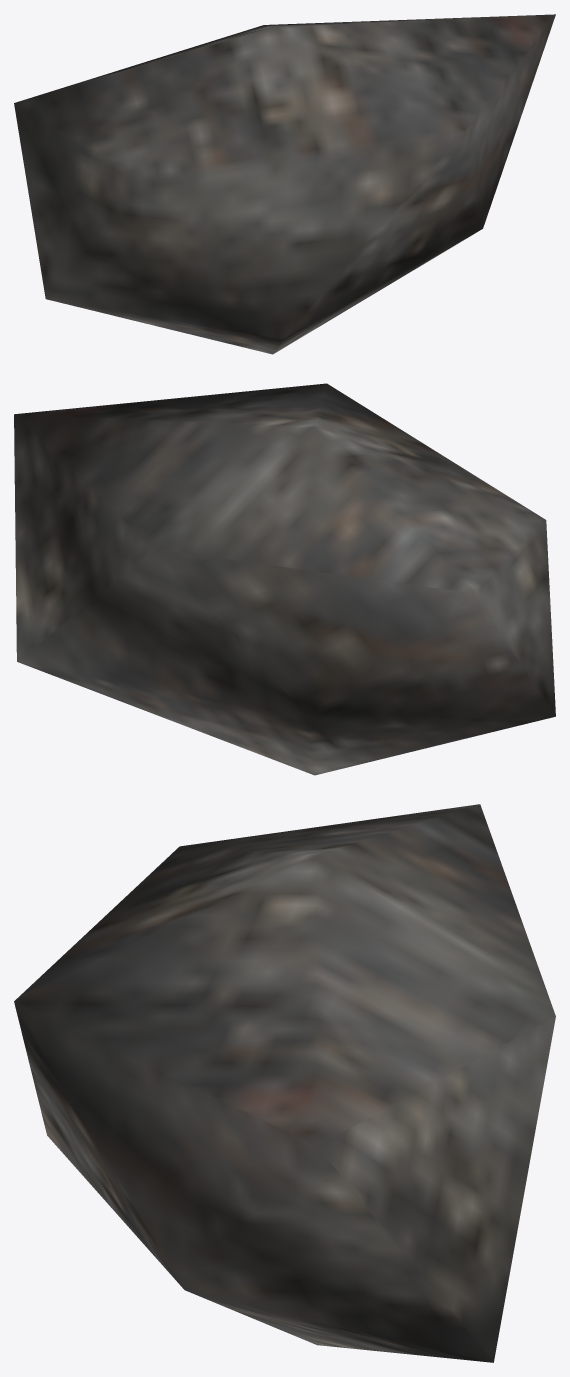
Rendered from SM_HarvestRock_Chip02.fbx.
3 renders of one model, top to bottom at view 1: azimuth 30°, elevation 25°; view 2: azimuth 150°, elevation 25°; view 3: azimuth 270°, elevation 25°, orthographic. The views are drawn at different scales.
Parts seen in each view (by area): view 1: SM_HarvestRock_Chip02; view 2: SM_HarvestRock_Chip02; view 3: SM_HarvestRock_Chip02.
Part boxes in pixels (<box>): SM_HarvestRock_Chip02: <box>14,14,555,354</box>; SM_HarvestRock_Chip02: <box>14,383,555,775</box>; SM_HarvestRock_Chip02: <box>14,804,555,1362</box>.
Bounding box in the file's own units: 32.06 × 19.68 × 19.63.
1 material, 1 textured.
